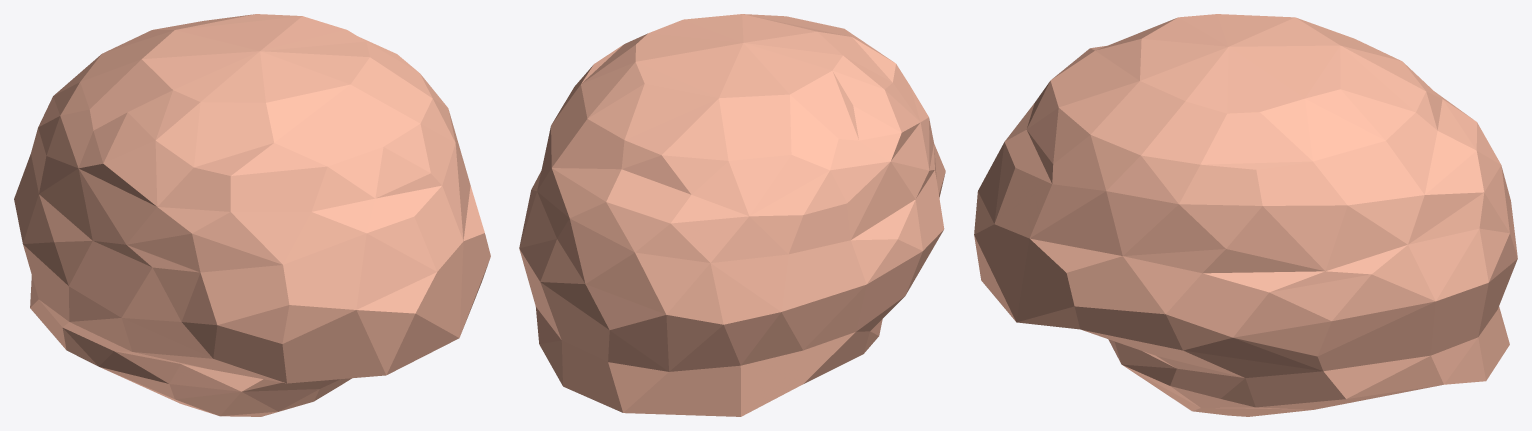
File: Brain.fbx
3 views of the same model, side by side, from view 1: azimuth 30°, elevation 25°; view 2: azimuth 150°, elevation 25°; view 3: azimuth 270°, elevation 25° (orthographic). The views are drawn at different scales.
Parts seen in each view (by area): view 1: Brain; view 2: Brain; view 3: Brain.
Part boxes in pixels (bbox=[...]): Brain: bbox=[14, 14, 490, 416]; Brain: bbox=[519, 14, 945, 416]; Brain: bbox=[974, 14, 1517, 416].
Bounding box in the file's own units: 132 × 119 × 161.
